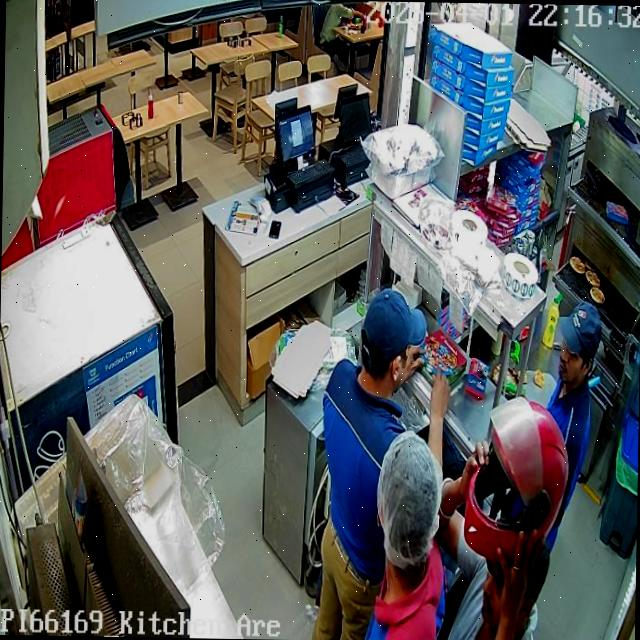helmet: (462, 396, 570, 562)
no_helmet: (378, 430, 442, 577), (358, 287, 426, 395), (558, 301, 601, 387)
